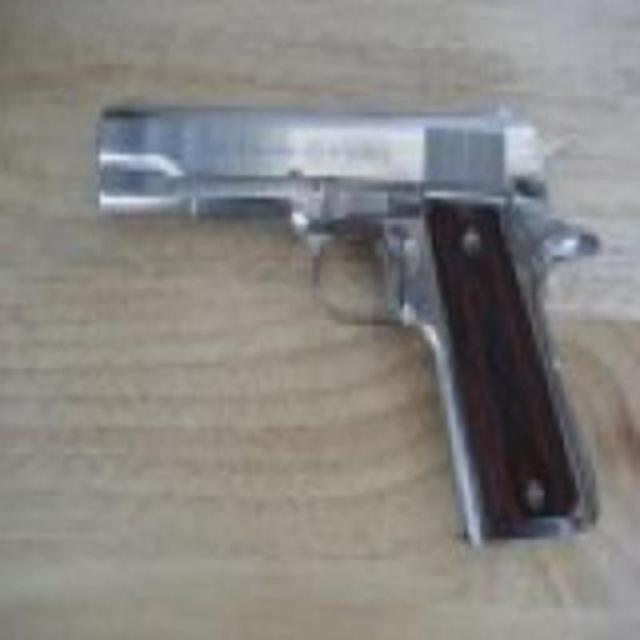pistol: (91, 101, 607, 537)
